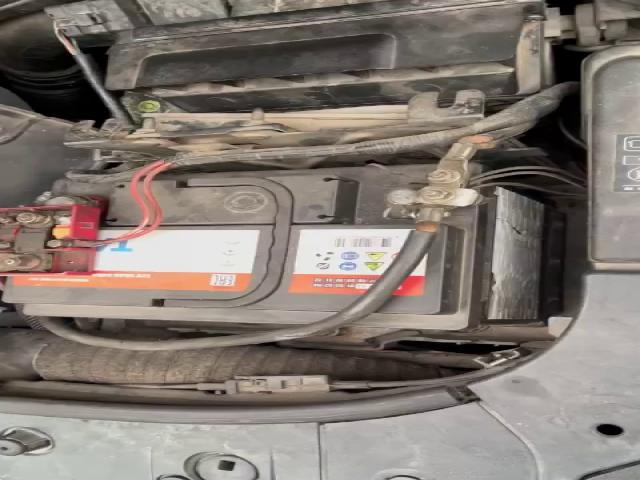accumulator: (1, 163, 570, 333)
